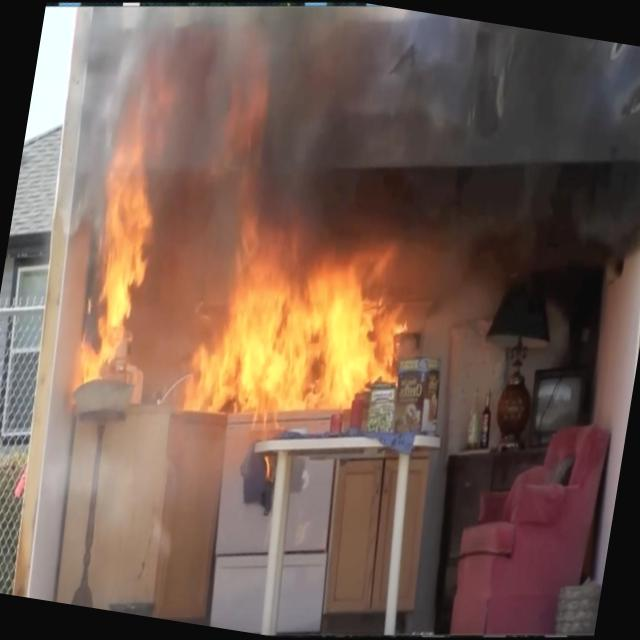fire: (46, 152, 453, 508)
